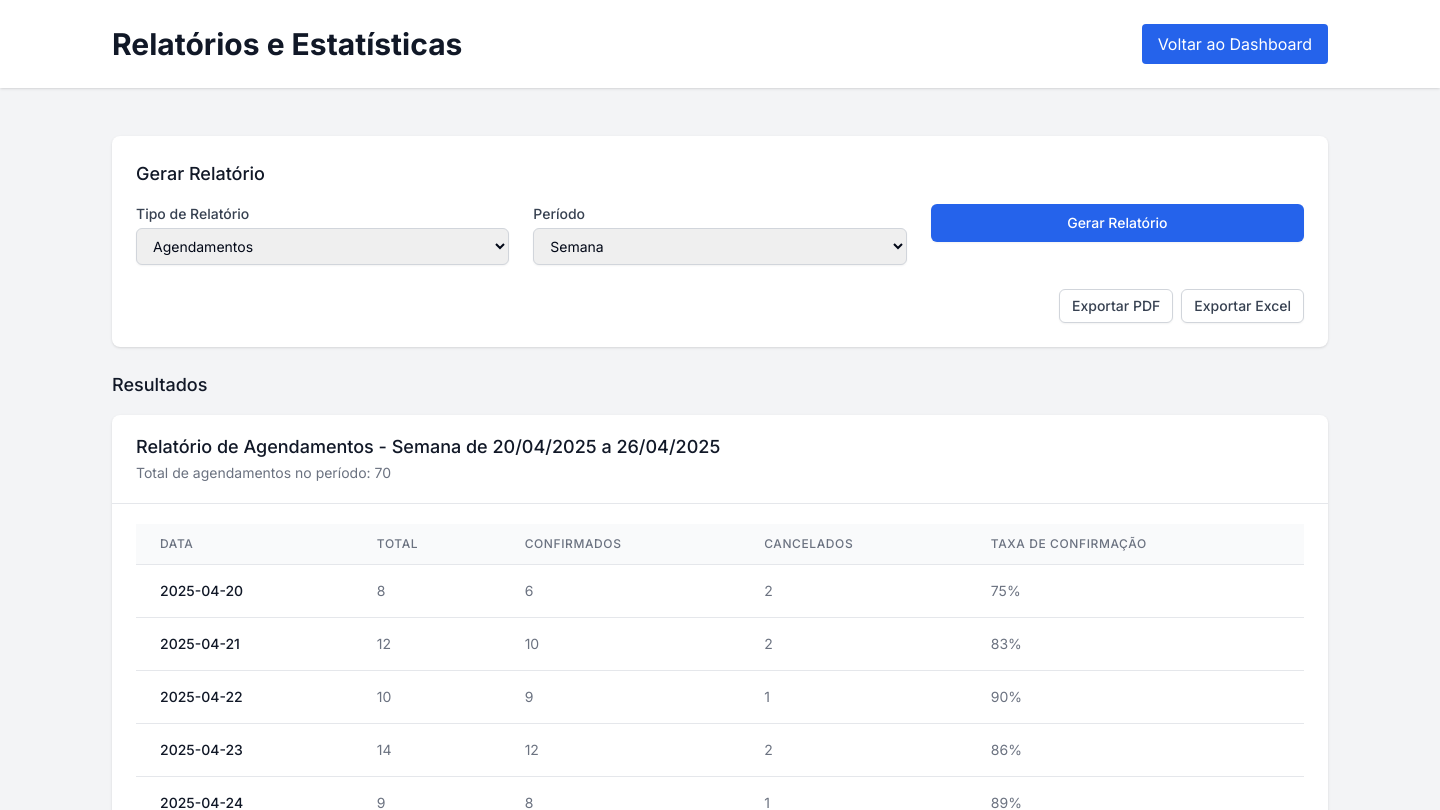
Test case: RelatoriosPage › mostra campos de data personalizados quando período personalizado é selecionado
This screenshot has width=1440, height=810.
Expected: the field labelled "Data de Início" is not shown
Selecionar período personalizado
Select "Personalizado" in the dropdown labelled "Período" at {"x": 720, "y": 246}, box [533,228,907,265]
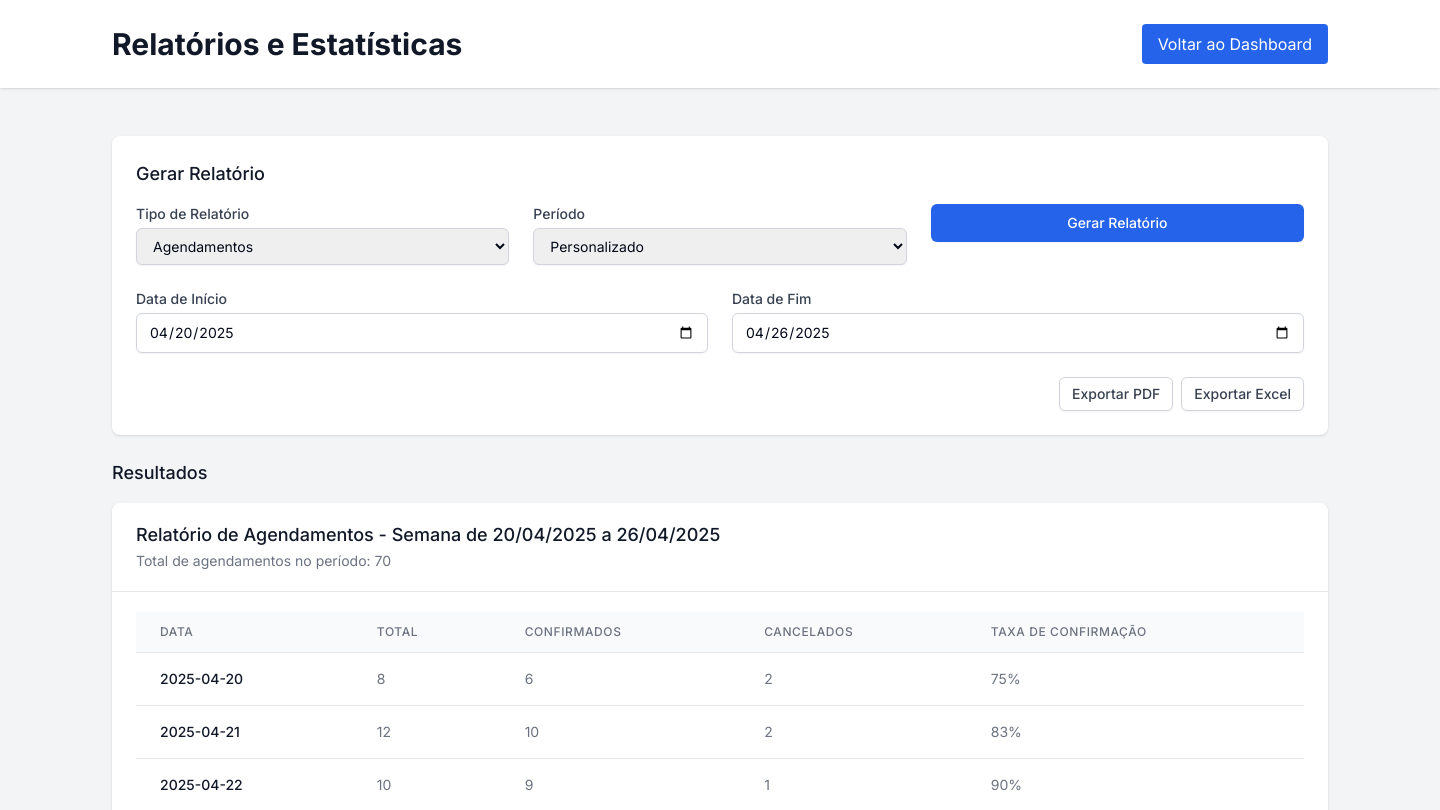
Expected: the date field labelled "Data de Início" is shown, [136,313,708,353]
Expected: the date field labelled "Data de Fim" is shown, [732,313,1304,353]
